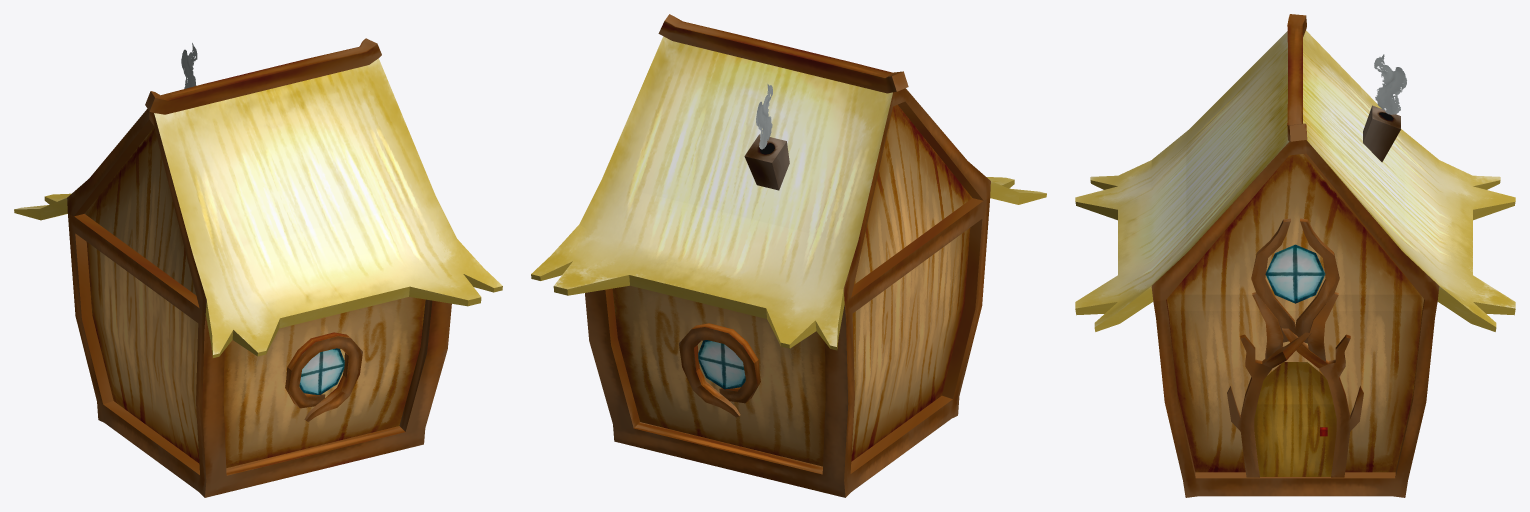
File: House.fbx
3 renders of one model, left to right at view 1: azimuth 30°, elevation 25°; view 2: azimuth 150°, elevation 25°; view 3: azimuth 270°, elevation 25°, orthographic. The views are drawn at different scales.
Visible parts, largest first — view 1: pCube8; view 2: pCube8, pPlane5; view 3: pCube8, pPlane5.
Boxes of the visible parts, x1,y1,x2,y2 form: pCube8: (14, 38, 502, 497); pCube8: (531, 14, 1046, 497); pPlane5: (756, 84, 772, 149); pCube8: (1075, 14, 1515, 497); pPlane5: (1374, 54, 1406, 114).
Bounding box in the file's own units: 2.38 × 2.97 × 3.02.
Materials: 3 (3 with a texture image).
